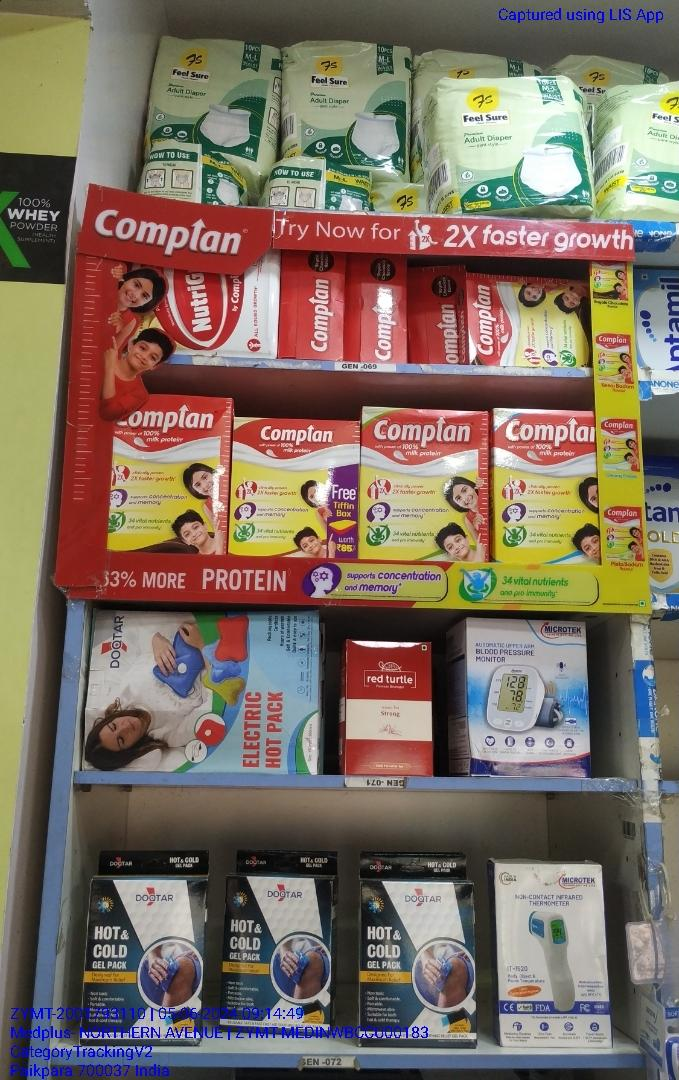COMPLAN_CHOCOLATE_500_GMS_PACK: (108, 399, 226, 552)
COMPLAN_CREAMY_CLASSIC_500_G_PACK: (494, 408, 598, 564)
COMPLAN_KESAR_BADAM_200_GMS_PACK: (232, 417, 355, 555)
COMPLAN_KESAR_BADAM_500_GMS_PACK: (363, 405, 487, 558)
